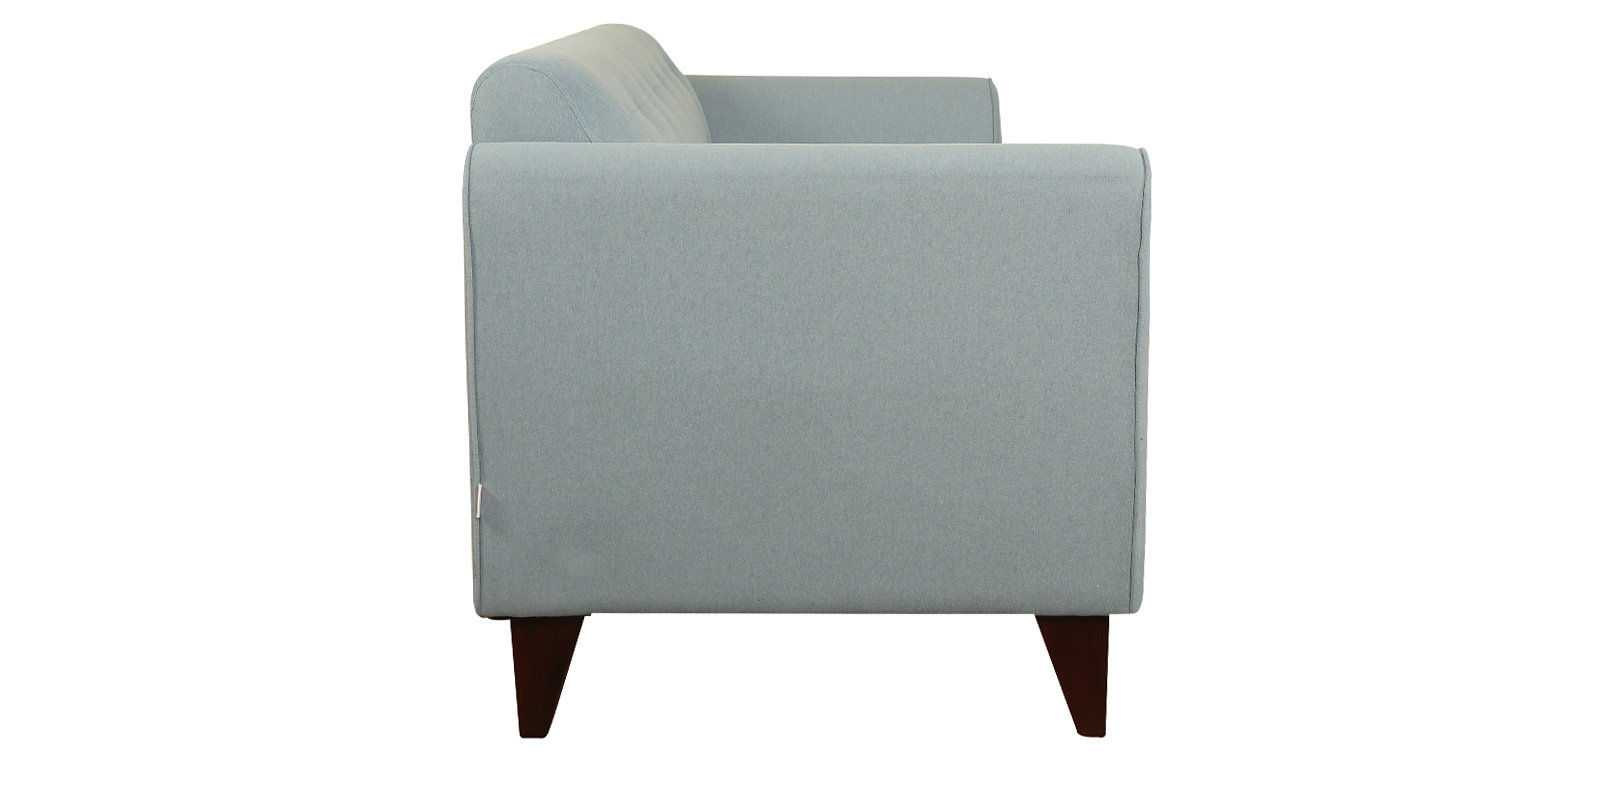Belem Three Seater Sofa in Ice Blue Color by CasaCraft: (404, 20, 1185, 698)
